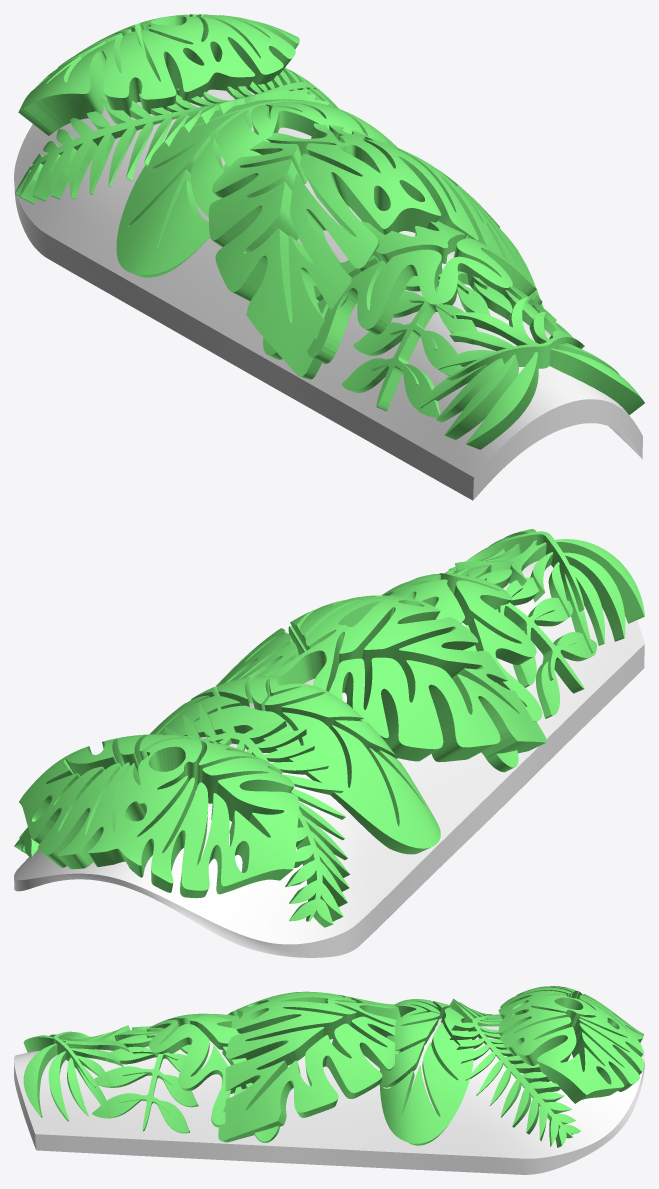
Rendered from jungle-web.glb.
The picture shows the model from 3 angles, top to bottom: view 1: azimuth 30°, elevation 25°; view 2: azimuth 150°, elevation 25°; view 3: azimuth 270°, elevation 25°; orthographic projection. The views are drawn at different scales.
Bounding box in the file's own units: 0.0142 × 0.00756 × 0.035.
